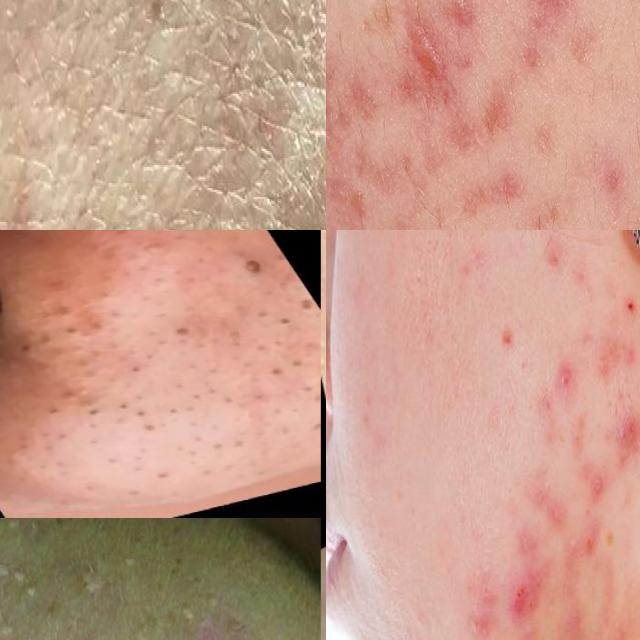acne_scars: (176, 603, 236, 640)
comedone: (22, 382, 166, 452), (0, 298, 114, 363), (142, 305, 224, 351), (248, 343, 321, 387), (267, 290, 321, 339), (220, 244, 273, 289), (161, 230, 220, 245)
crystanlline: (513, 558, 562, 625), (616, 413, 640, 467)
flat_wart: (67, 535, 124, 626), (0, 540, 45, 619)
keloid: (390, 0, 449, 112)
papule: (469, 579, 496, 640), (546, 358, 590, 394), (550, 486, 567, 526)
pustule: (599, 629, 630, 640)
